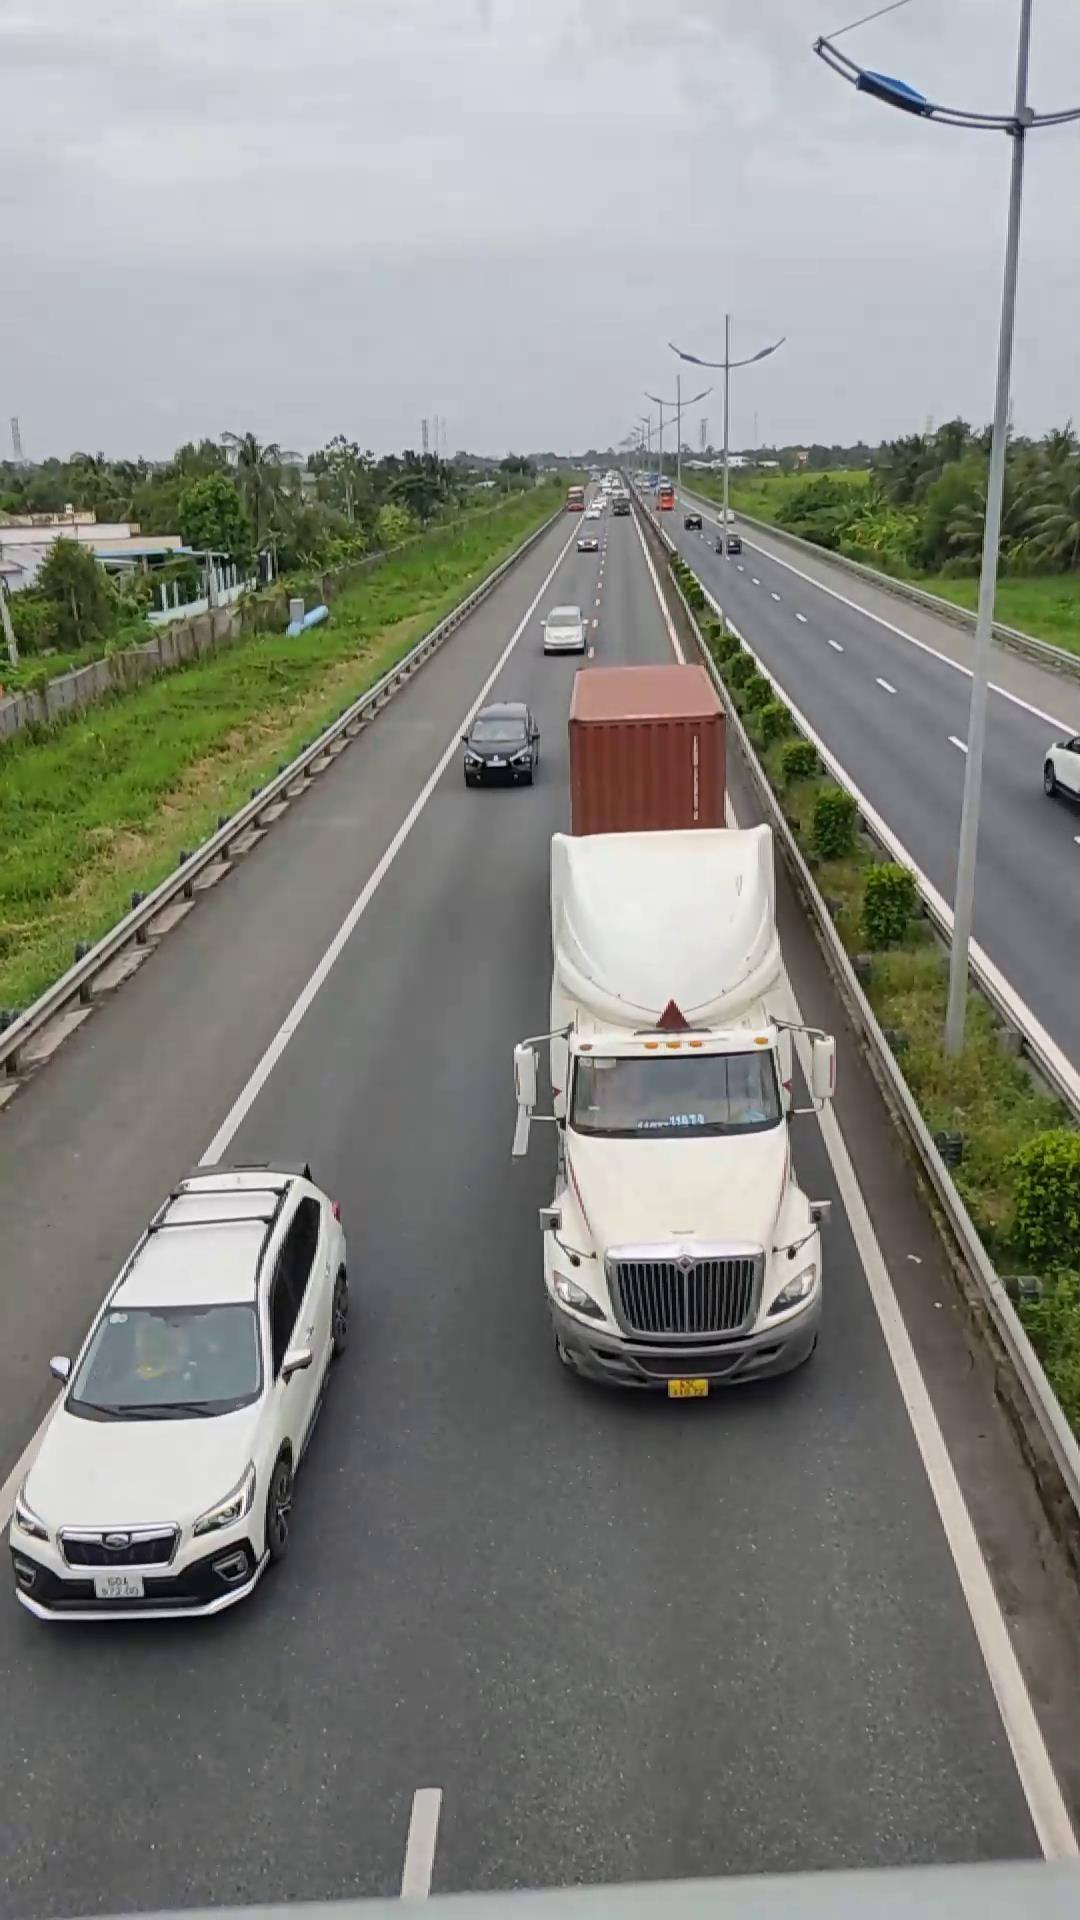car: (1, 1163, 352, 1621), (460, 700, 541, 785)
container: (520, 661, 832, 1399)
